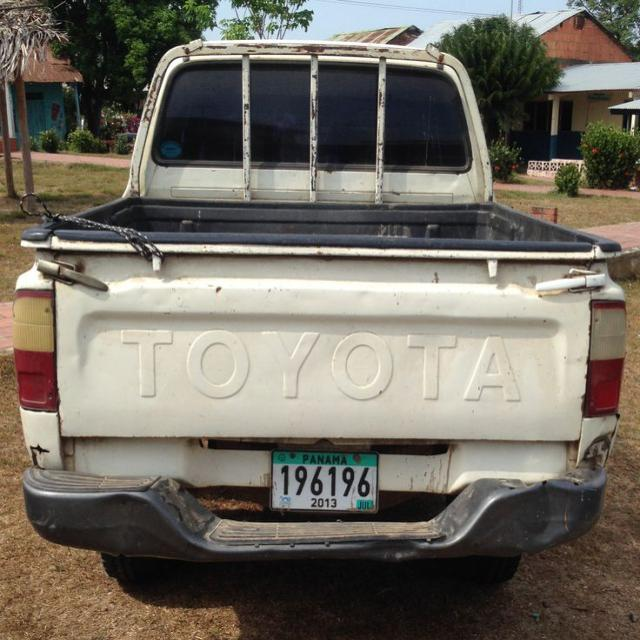Placas: (269, 446, 379, 514)
